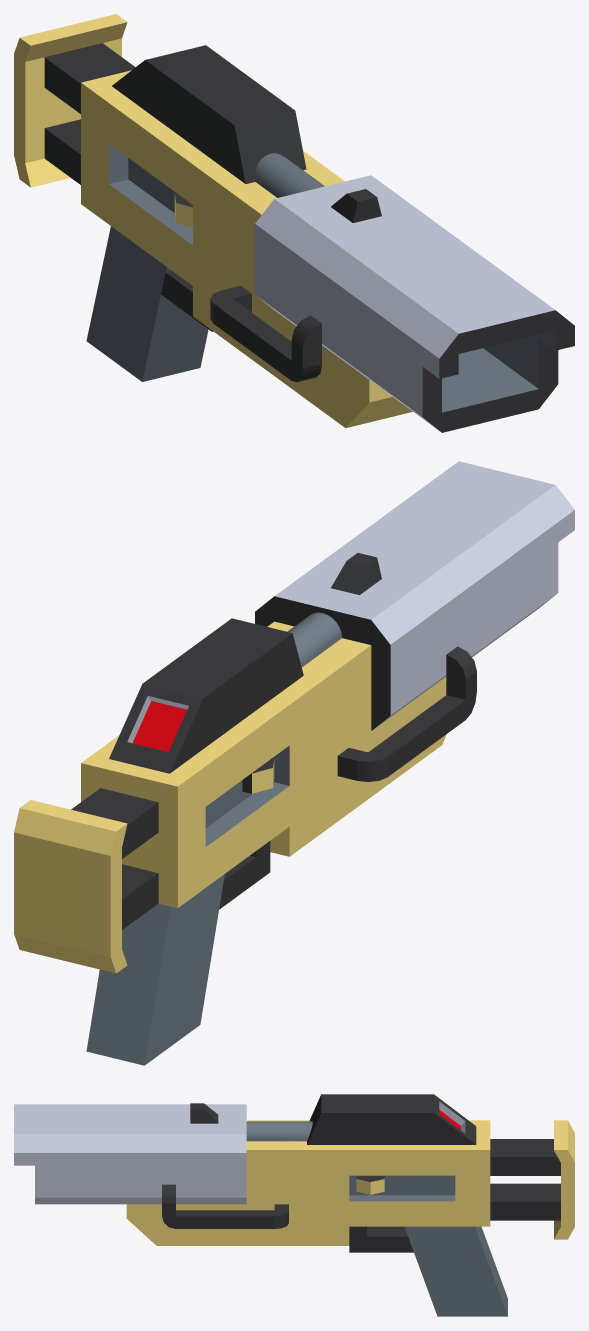
Rendered from BlasterG.glb.
The picture shows the model from 3 angles, top to bottom: view 1: azimuth 30°, elevation 25°; view 2: azimuth 150°, elevation 25°; view 3: azimuth 270°, elevation 25°; orthographic projection. The views are drawn at different scales.
Parts seen in each view (by area): view 1: blasterG; view 2: blasterG; view 3: blasterG.
Boxes of the visible parts, x1,y1,x2,y2 form: blasterG: (14,14,574,432); blasterG: (14,461,574,1065); blasterG: (14,1094,574,1316).
Bounding box in the file's own units: 0.18 × 0.32 × 0.7959.
